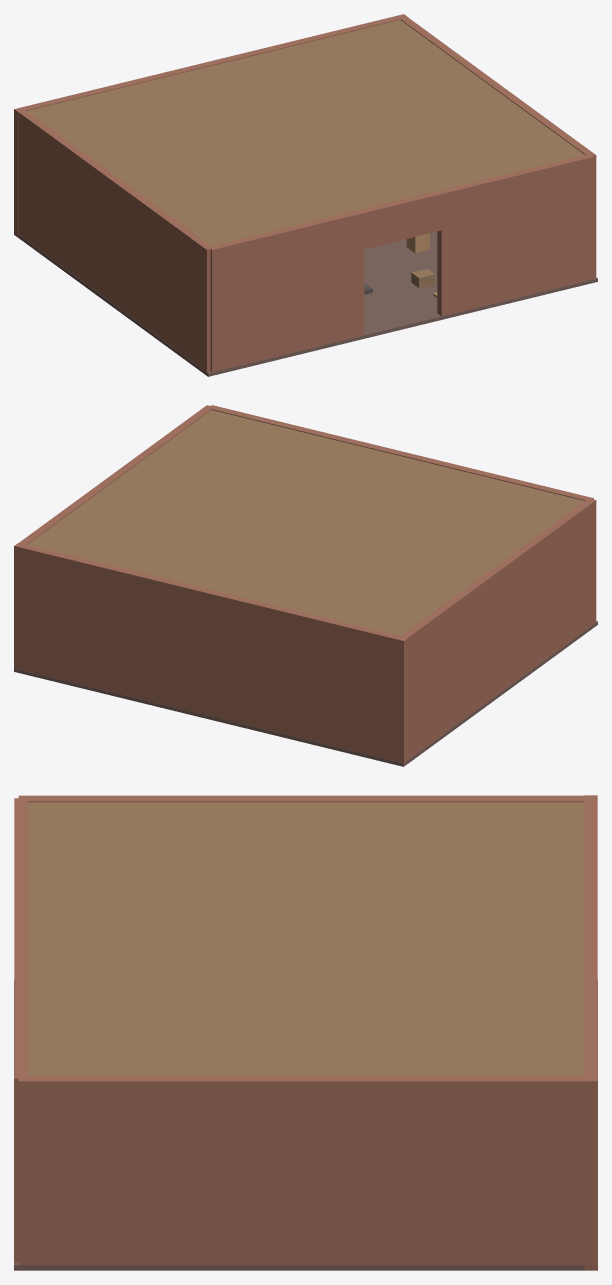
Rendered from interior-forge.glb.
The picture shows the model from 3 angles, top to bottom: view 1: azimuth 30°, elevation 25°; view 2: azimuth 150°, elevation 25°; view 3: azimuth 270°, elevation 25°; orthographic projection. The views are drawn at different scales.
Parts seen in each view (by area): view 1: room.forge.wall, room.forge.wood, room.forge.floor; view 2: room.forge.wall, room.forge.wood, room.forge.floor; view 3: room.forge.wood, room.forge.wall, room.forge.floor.
Part boxes in pixels (x1,y1,x2,y2): room.forge.wall: (14,14,596,372); room.forge.wood: (27,20,584,288); room.forge.floor: (14,231,597,376); room.forge.wall: (14,405,596,766); room.forge.wood: (27,410,584,635); room.forge.floor: (14,621,597,766); room.forge.wood: (27,802,584,1075); room.forge.wall: (14,795,597,1270); room.forge.floor: (14,979,597,1270).
Bounding box in the file's own units: 14.6 × 4.5 × 12.6.
